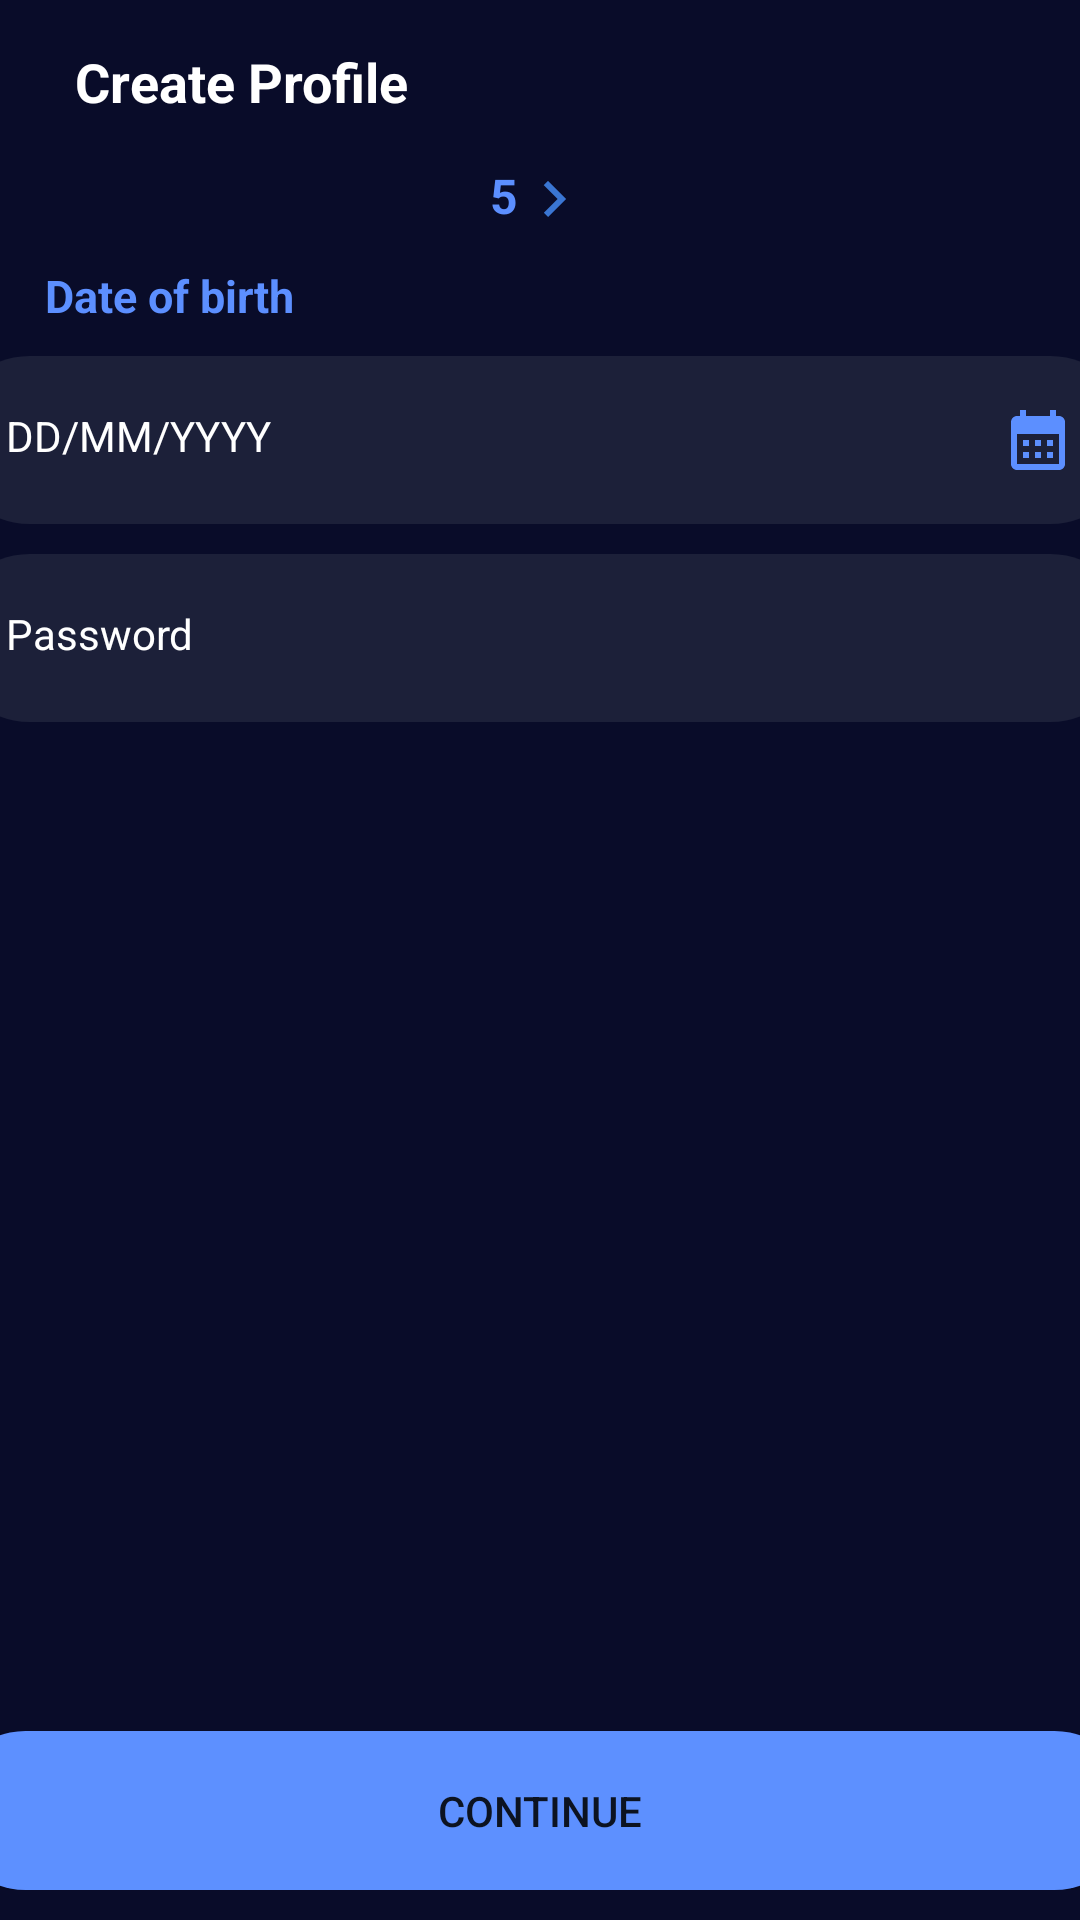

Where icons sit on this 1080px x 1920px app screen, as (x1, y1, x2, y2):
rightarrow: (544, 181, 566, 217)
